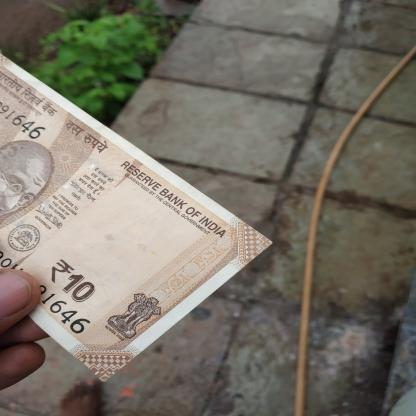New10Front: (0, 59, 234, 358)
